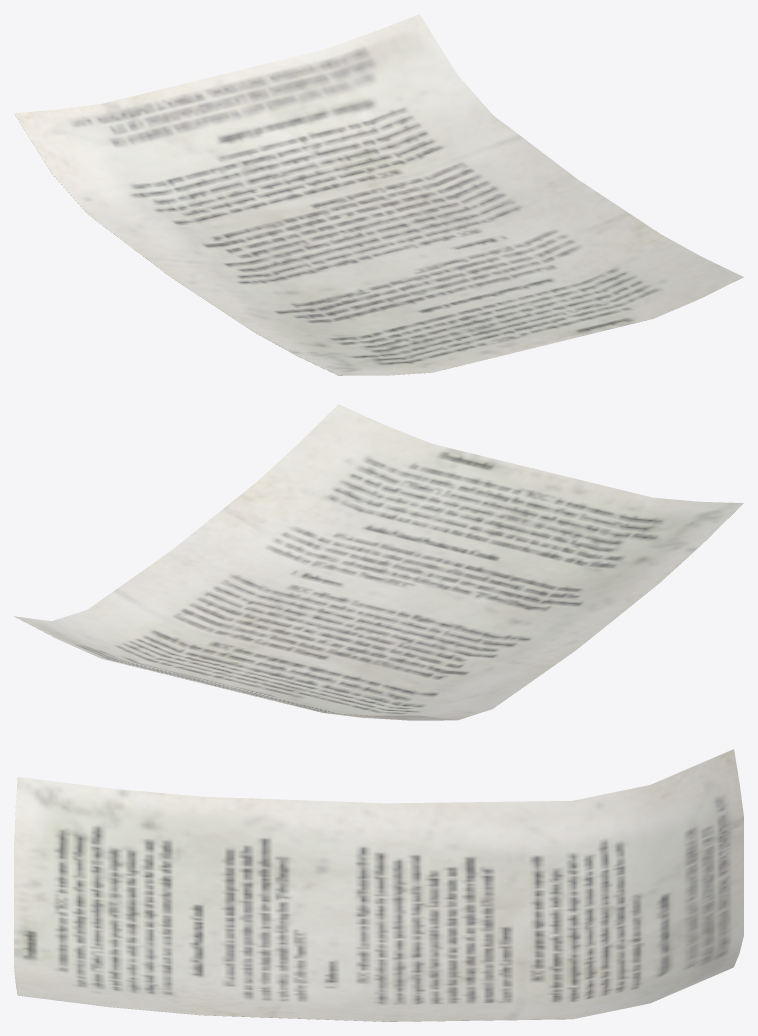
File: Paper_D.obj
The picture shows the model from 3 angles, top to bottom: view 1: azimuth 30°, elevation 25°; view 2: azimuth 150°, elevation 25°; view 3: azimuth 270°, elevation 25°; orthographic projection. The views are drawn at different scales.
Parts seen in each view (by area): view 1: Paper_D; view 2: Paper_D; view 3: Paper_D.
Boxes of the visible parts, x1=… form: Paper_D: x1=14, y1=14, x2=743, y2=375; Paper_D: x1=14, y1=404, x2=743, y2=720; Paper_D: x1=14, y1=749, x2=743, y2=1021.
Size of the model in its own units: 12.23 by 1.96 by 17.27.
